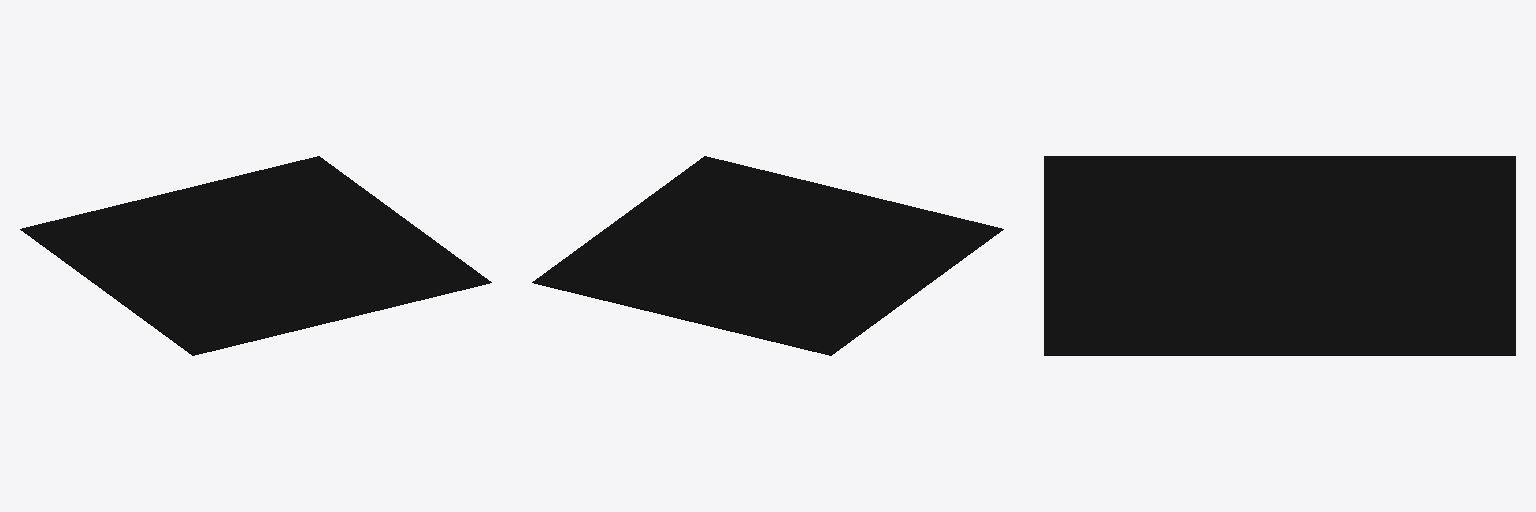
URDF robot description (plane):
<?xml version="1.0" ?>
<robot name="plane">
  <link name="planeLink">
  <contact>
      <lateral_friction value="1"/>
  </contact>
    <inertial>
      <origin rpy="0 0 0" xyz="0 0 0"/>
       <mass value=".0"/>
       <inertia ixx="0" ixy="0" ixz="0" iyy="0" iyz="0" izz="0"/>
    </inertial>
    <visual>
      <origin rpy="0 0 0" xyz="0 0 -0.005"/>
      <geometry>
				<box size="3 3 0.01" />
      </geometry>
       <material name="white">
        <color rgba="0.1 0.1 0.1 0.1"/>
      </material>
    </visual>
    <collision>
      <origin rpy="0 0 0" xyz="0 0 -0.005"/>
      <geometry>
	 	<box size="3 3 0.01"/>
      </geometry>
    </collision>
  </link>
</robot>

--- Facts derived from the render (not from the file) ---
The picture shows the robot from 3 angles, left to right: view 1: azimuth 30°, elevation 25°; view 2: azimuth 150°, elevation 25°; view 3: azimuth 270°, elevation 25°; orthographic projection.
Model plane with 1 links and 0 joints (none), rooted at planeLink, posed all joints at 0.
Links seen in each view (by area): view 1: planeLink; view 2: planeLink; view 3: planeLink.
Link boxes in pixels (bbox=[...]): planeLink: bbox=[20, 156, 491, 355]; planeLink: bbox=[532, 156, 1003, 355]; planeLink: bbox=[1044, 156, 1515, 355].
Size in the robot's own frame: 3 by 3 by 0.01 metres.
Geometry: primitives only (box / cylinder / sphere), no mesh files.
